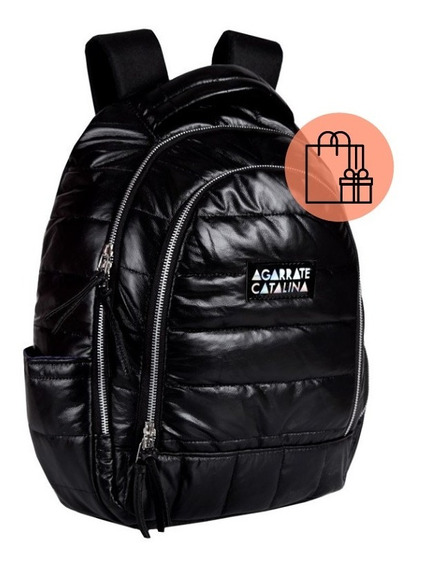cartera: (26, 24, 372, 530)
